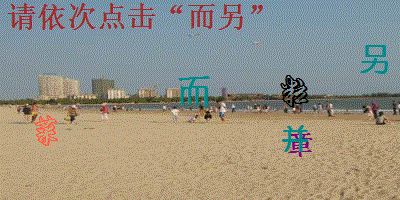result: (186, 3, 247, 30)
text: (178, 74, 211, 108), (359, 41, 391, 76), (279, 73, 309, 107), (280, 123, 309, 153), (33, 114, 59, 147), (289, 129, 312, 158)
